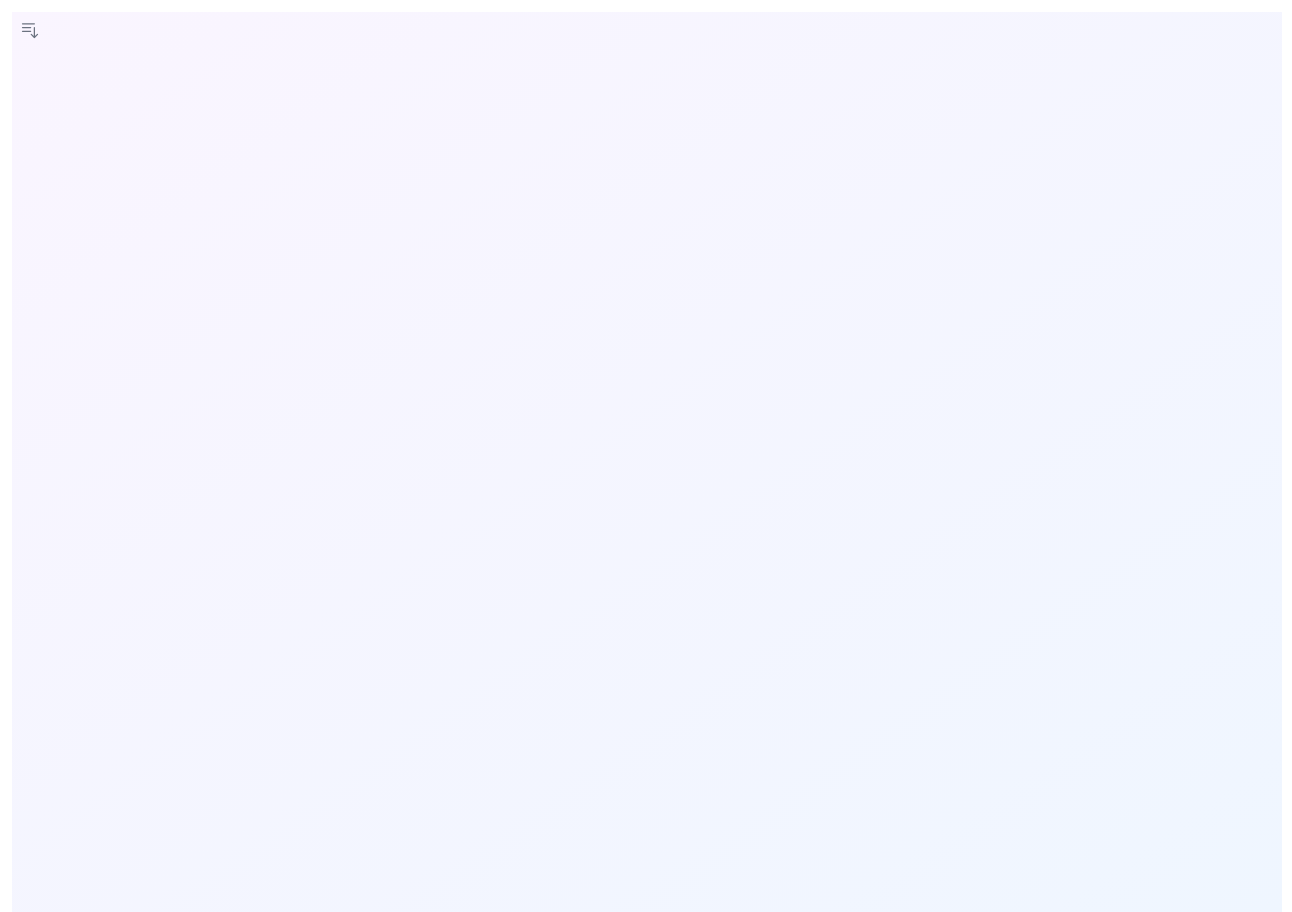
Test case: ListSortDropdown › closes dropdown on Escape key
Step 1. Click the button titled "Sort options" → (30, 30), box top-left (12, 12), bottom-right (48, 48)
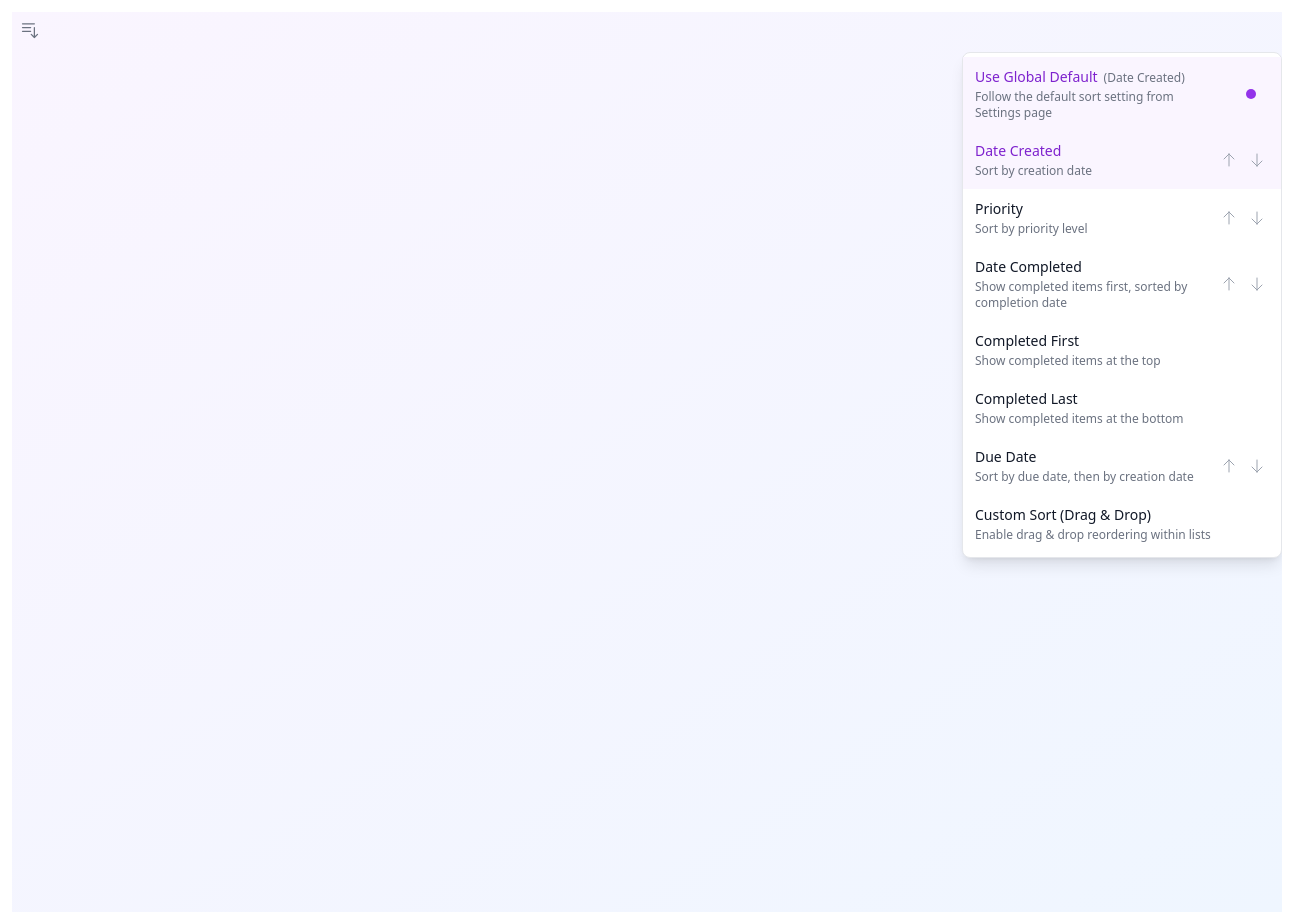
Expected: the list is shown, top-left (962, 52), bottom-right (1282, 558)
Step 2. Press Escape
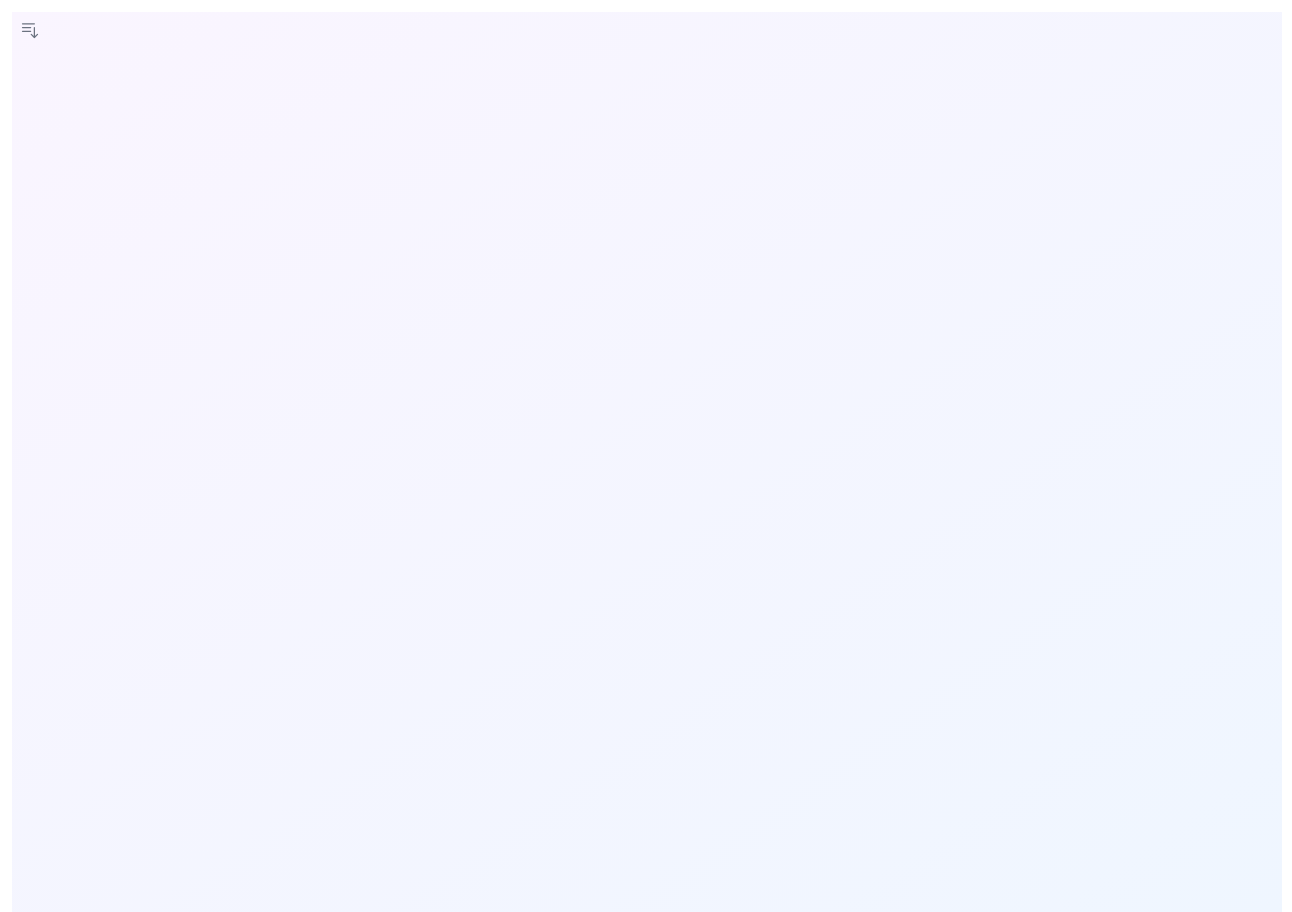
Expected: the list is gone
